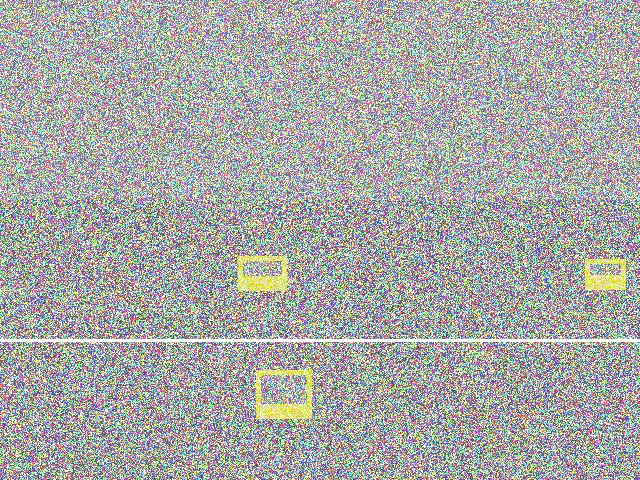bus: (474, 293, 550, 360)
